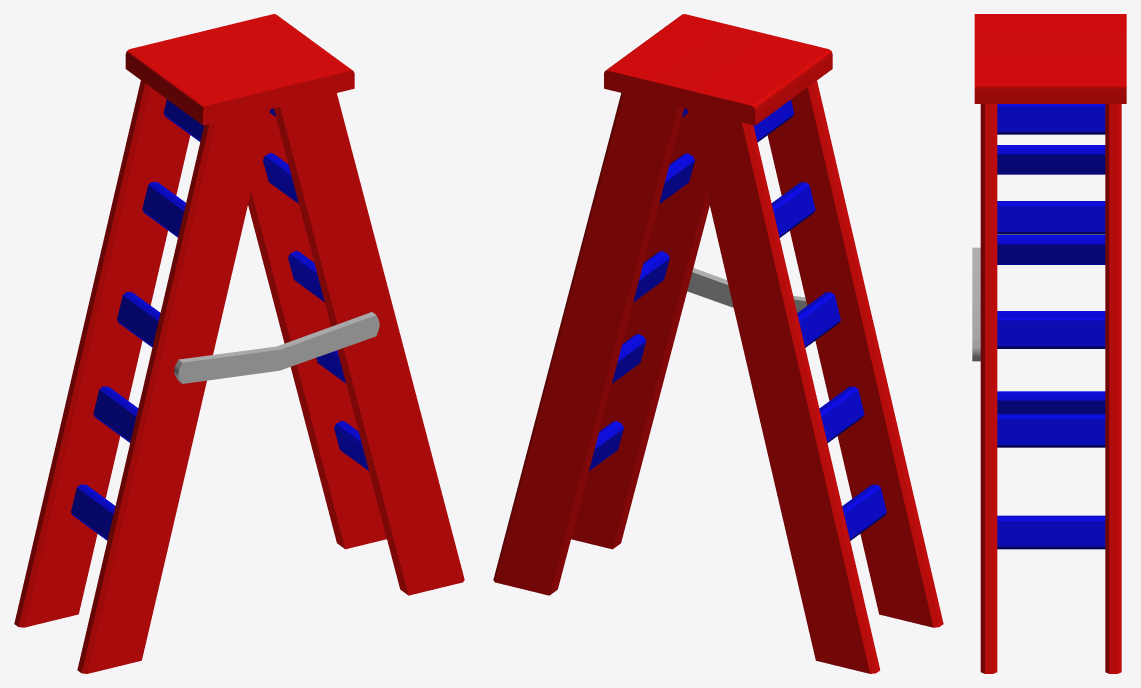
The model's file is escaleras.fbx.
3 renders of one model, left to right at view 1: azimuth 30°, elevation 25°; view 2: azimuth 150°, elevation 25°; view 3: azimuth 270°, elevation 25°, orthographic.
Visible parts, largest first — view 1: escalera; view 2: escalera; view 3: escalera.
Boxes of the visible parts, x1,y1,x2,y2 form: escalera: [14, 14, 464, 673]; escalera: [493, 14, 943, 673]; escalera: [972, 14, 1126, 673].
Bounding box in the file's own units: 132 × 178 × 46.75.
